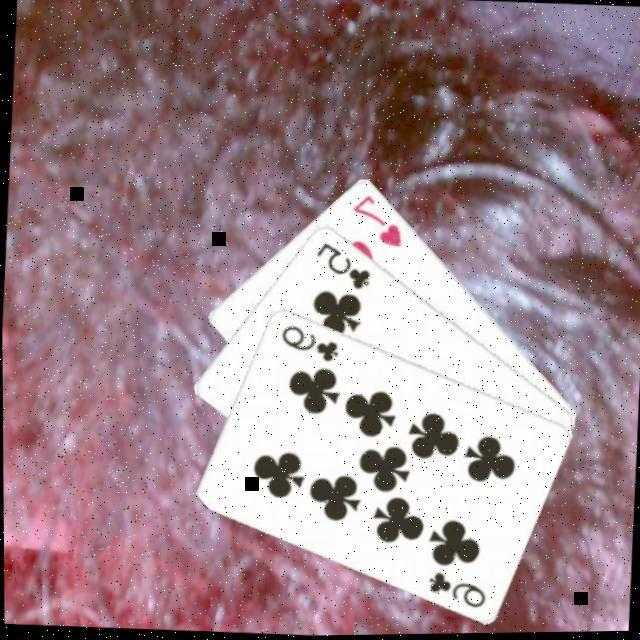5C: (308, 238, 373, 294)
7H: (345, 190, 405, 251)
9C: (273, 320, 340, 366), (421, 566, 487, 612)
